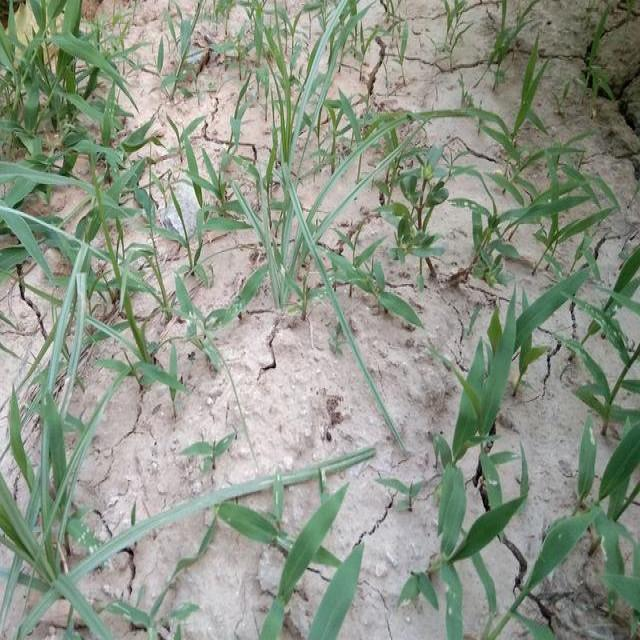weed: (224, 0, 446, 319), (10, 7, 154, 346), (0, 362, 129, 640), (470, 12, 610, 264), (440, 347, 523, 640), (240, 464, 386, 626), (566, 374, 640, 627)
